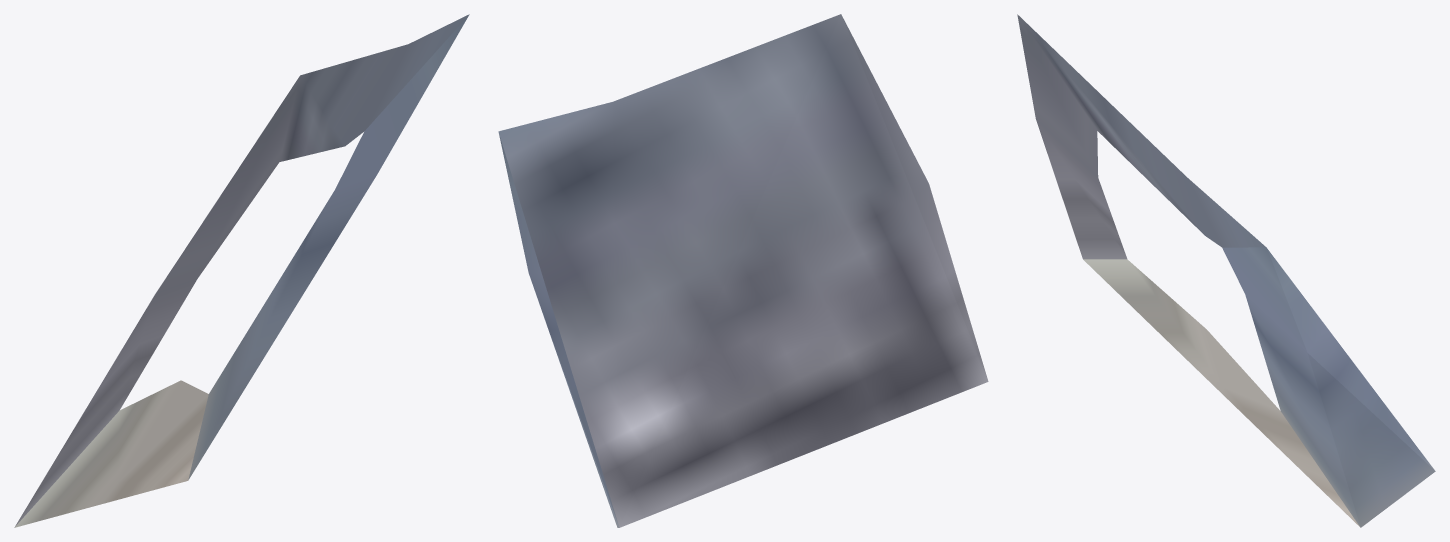
3 views of the same model, side by side, from view 1: azimuth 30°, elevation 25°; view 2: azimuth 150°, elevation 25°; view 3: azimuth 270°, elevation 25° (orthographic). The views are drawn at different scales.
Bounding box in the file's own units: 10.19 × 10.01 × 8.
1 material, 1 textured.
